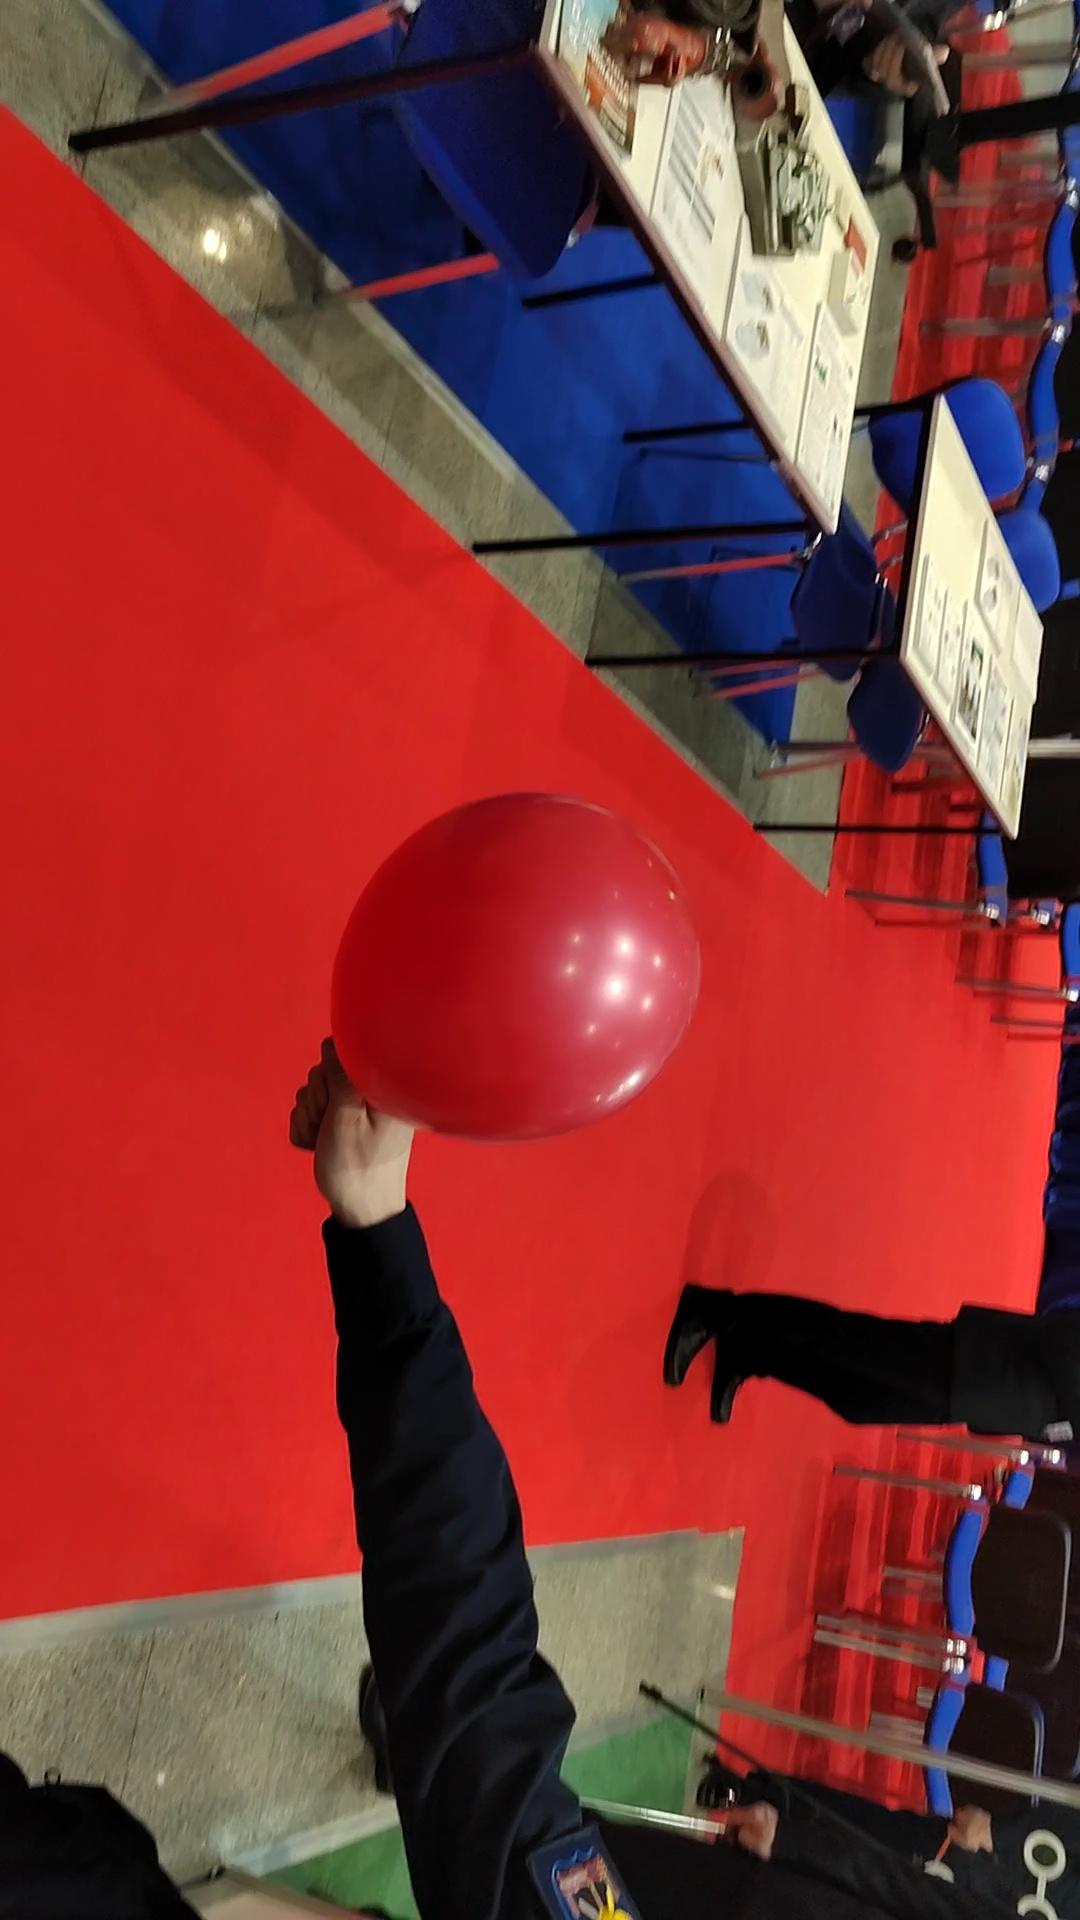red: (314, 777, 712, 1150)
